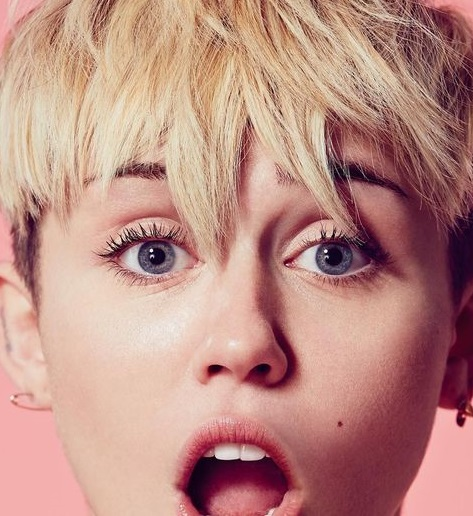tahilalat: (335, 419, 346, 428)
